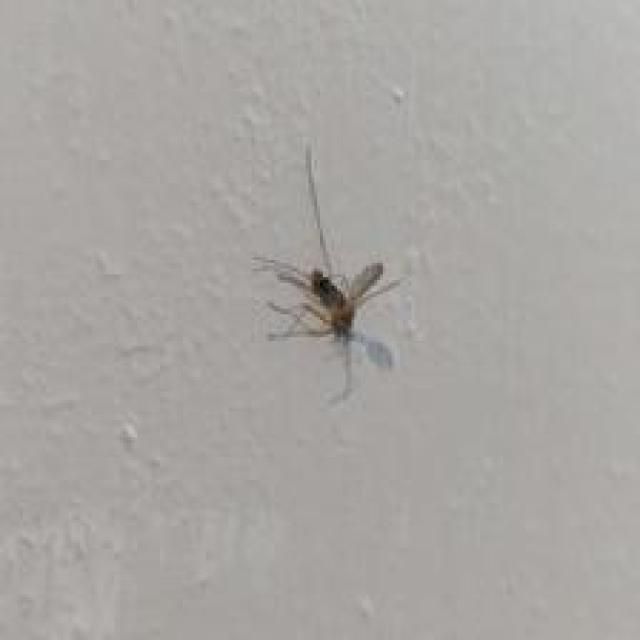Culex: (252, 143, 408, 403)
